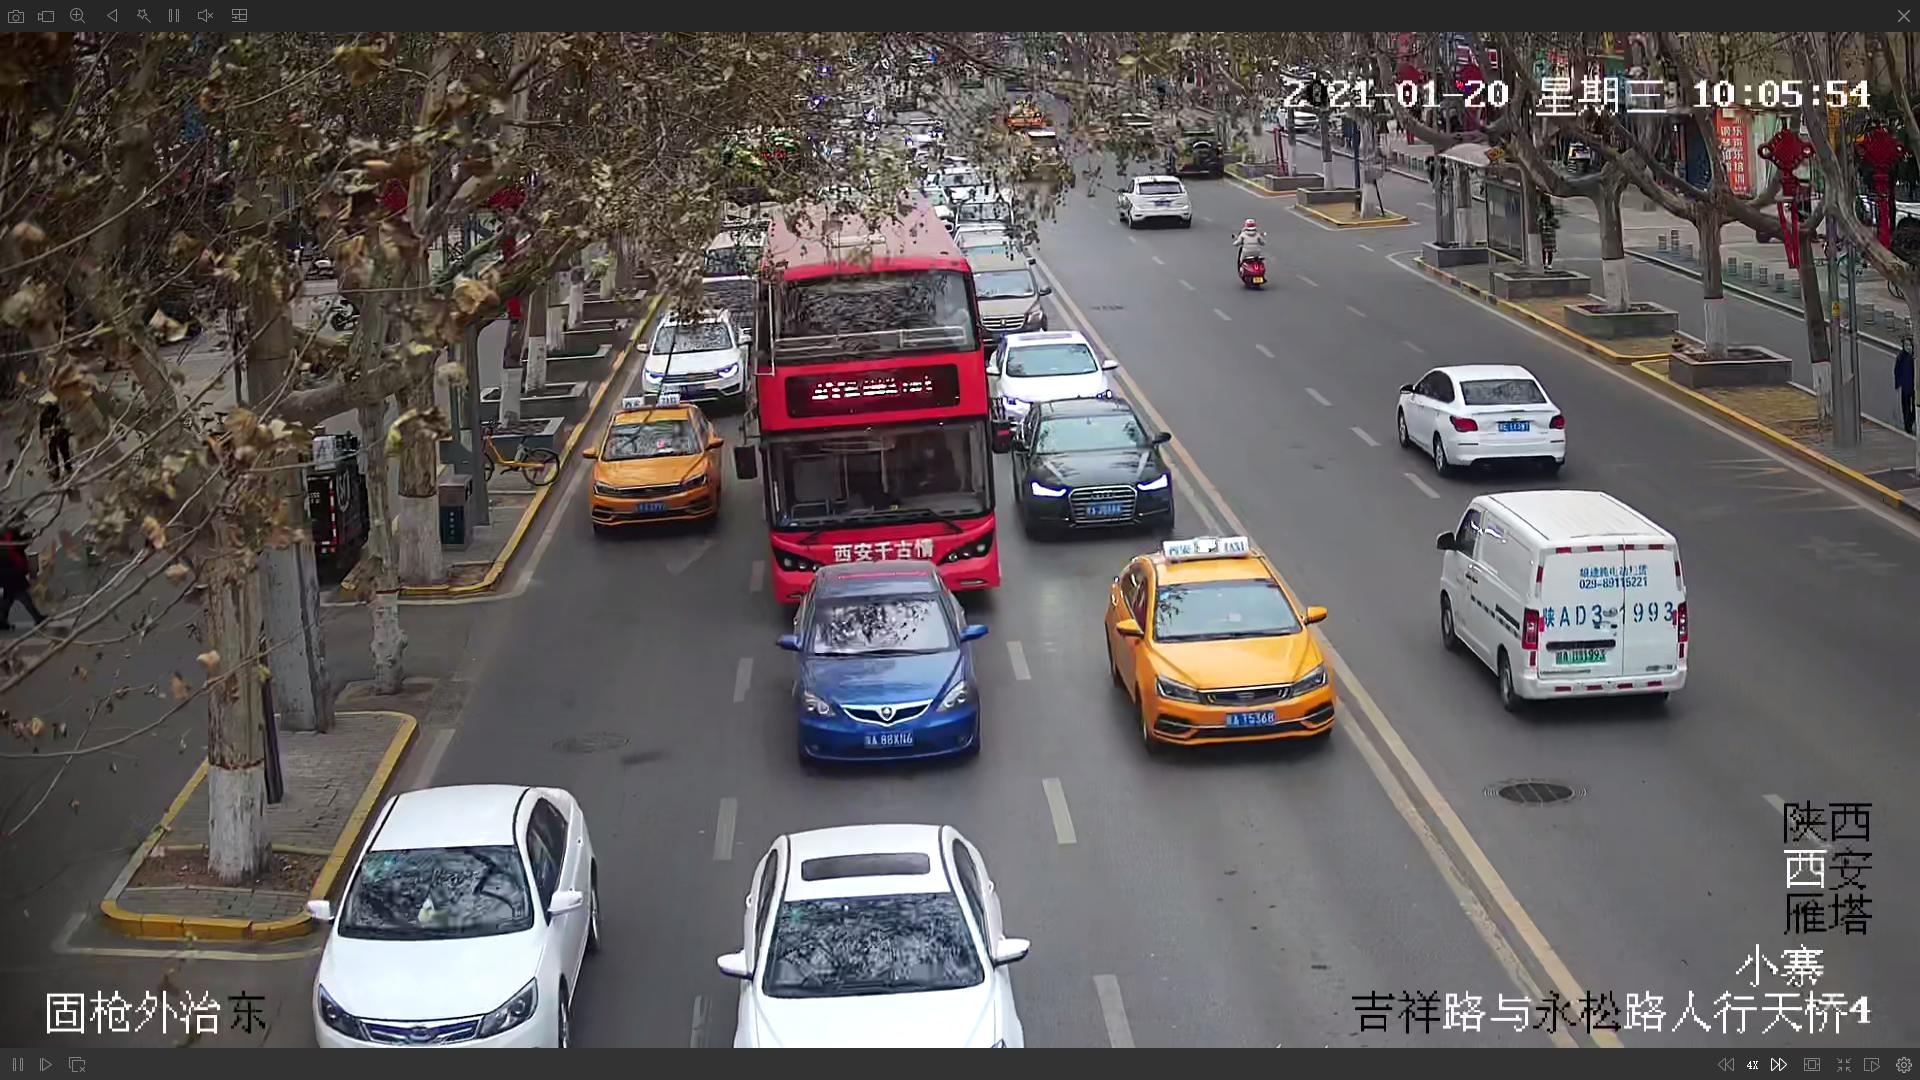blue: (778, 571, 988, 769)
orange: (1105, 546, 1338, 750), (579, 400, 723, 529)
red: (742, 255, 1001, 585)
white: (314, 785, 593, 1047), (733, 829, 1033, 1042)
